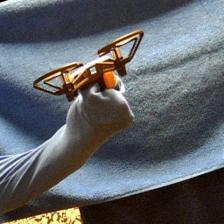drone: (32, 28, 144, 103)
